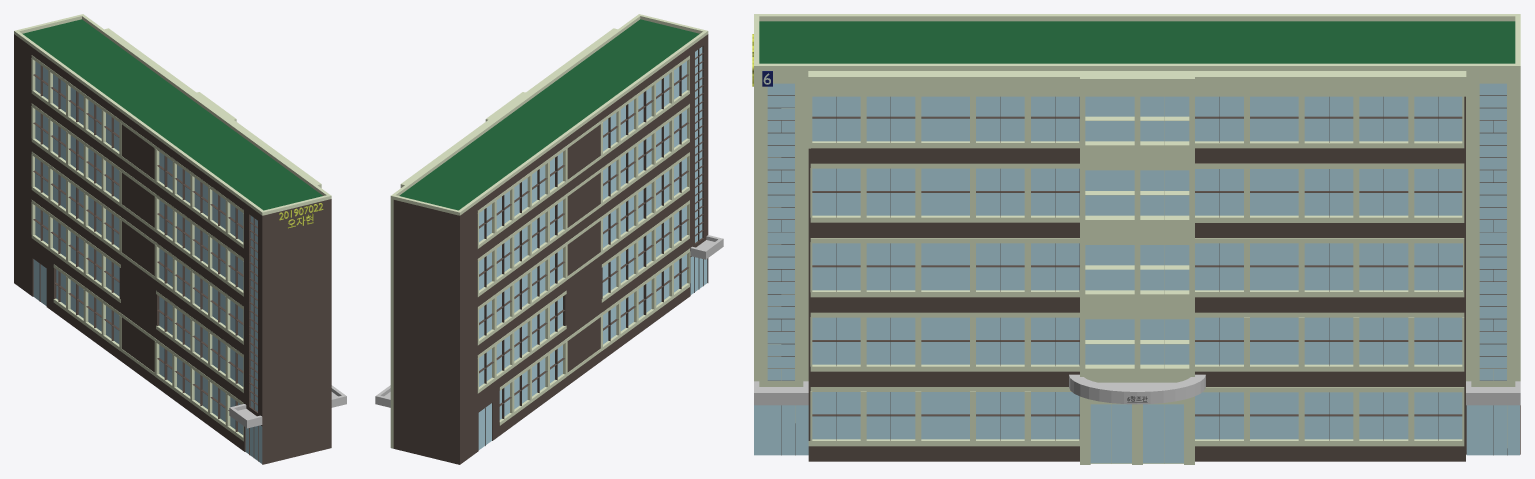
Rendered from 6building_9.glb.
3 views of the same model, side by side, from view 1: azimuth 30°, elevation 25°; view 2: azimuth 150°, elevation 25°; view 3: azimuth 270°, elevation 25° (orthographic). The views are drawn at different scales.
Parts seen in each view (by area): view 1: main-building_join; view 2: main-building_join; view 3: main-building_join.
Part boxes in pixels (x1,y1,x2,y2): main-building_join: (14,14,346,464); main-building_join: (375,14,723,464); main-building_join: (752,14,1520,464).
Size of the model in its own units: 75.7 by 157 by 281.
